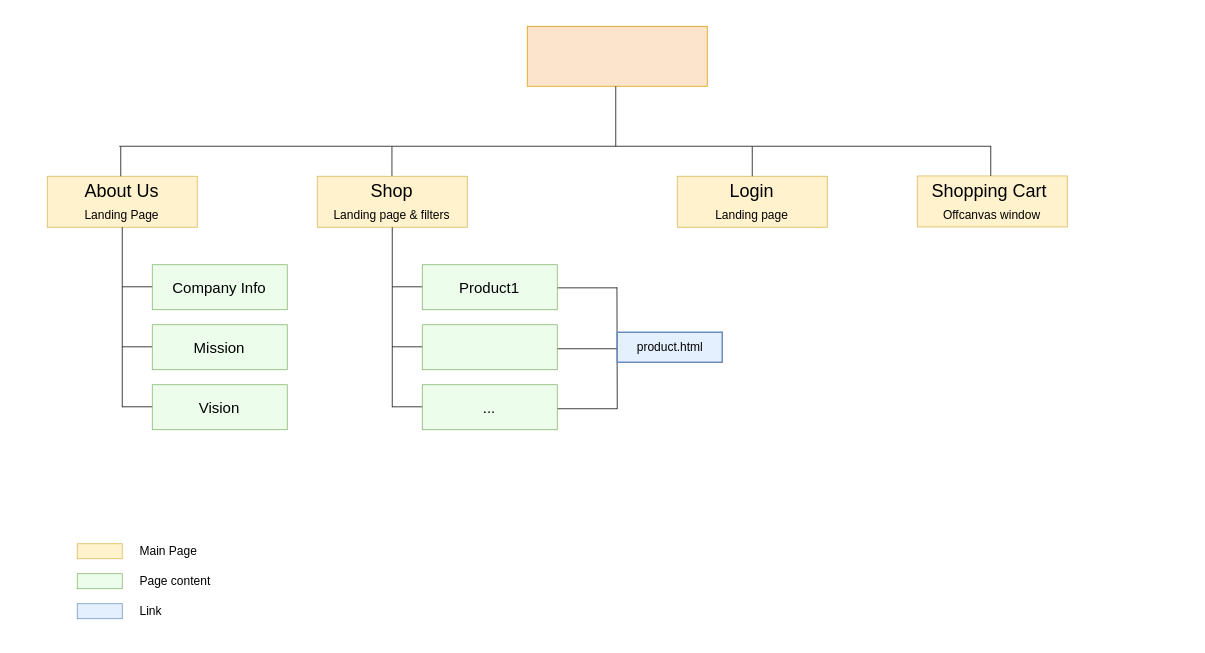
The diagram is 1205 pixels wide and 653 high, and some of its shapes have lost their labels. Here are the shapes that lost their labels. From the top down, the centre of each, then its label:
At [616,55]: "Home".
At [489,346]: "Product2".
